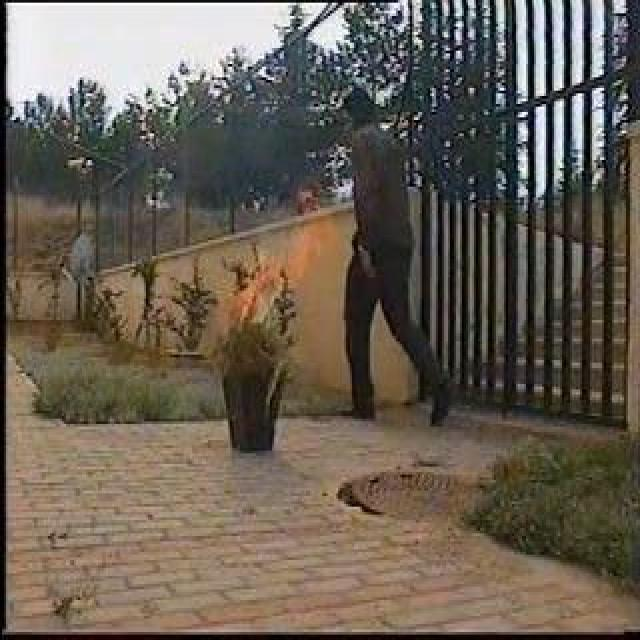fire: (245, 214, 323, 310)
